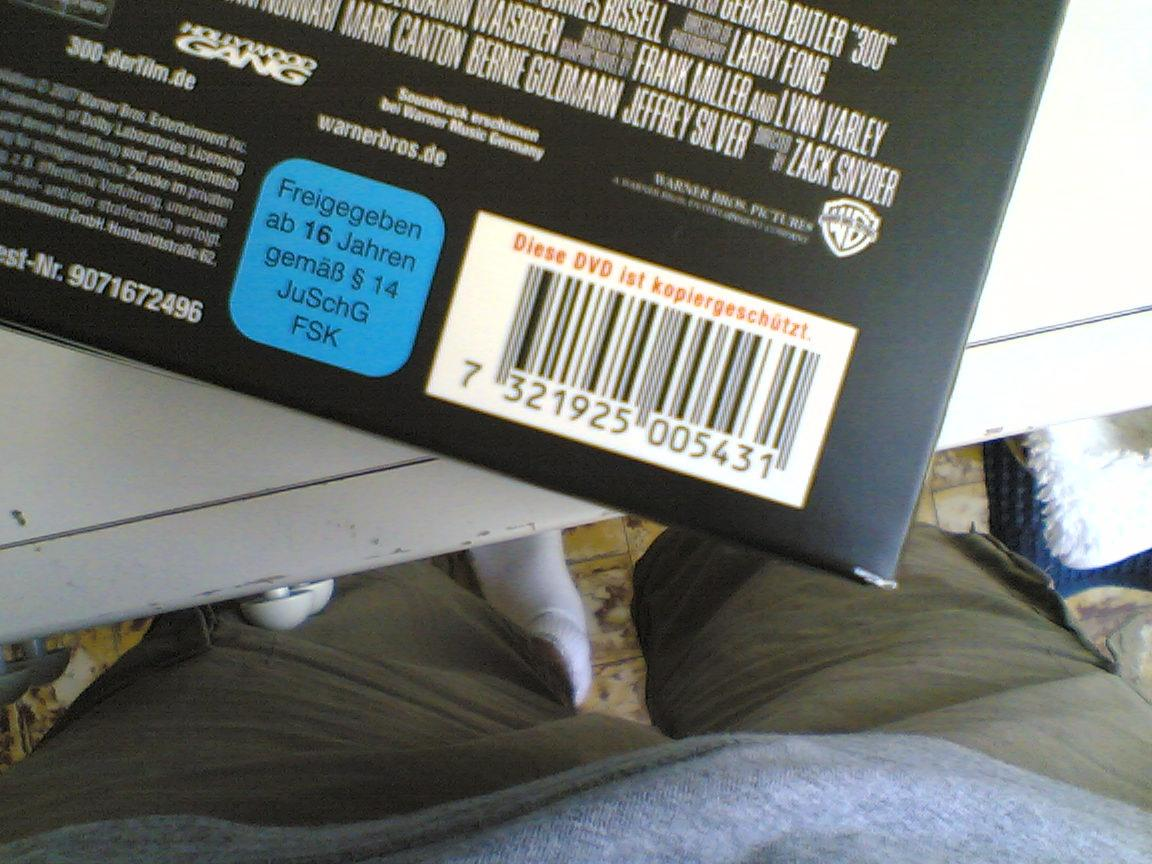Barcode: (424, 207, 860, 511)
